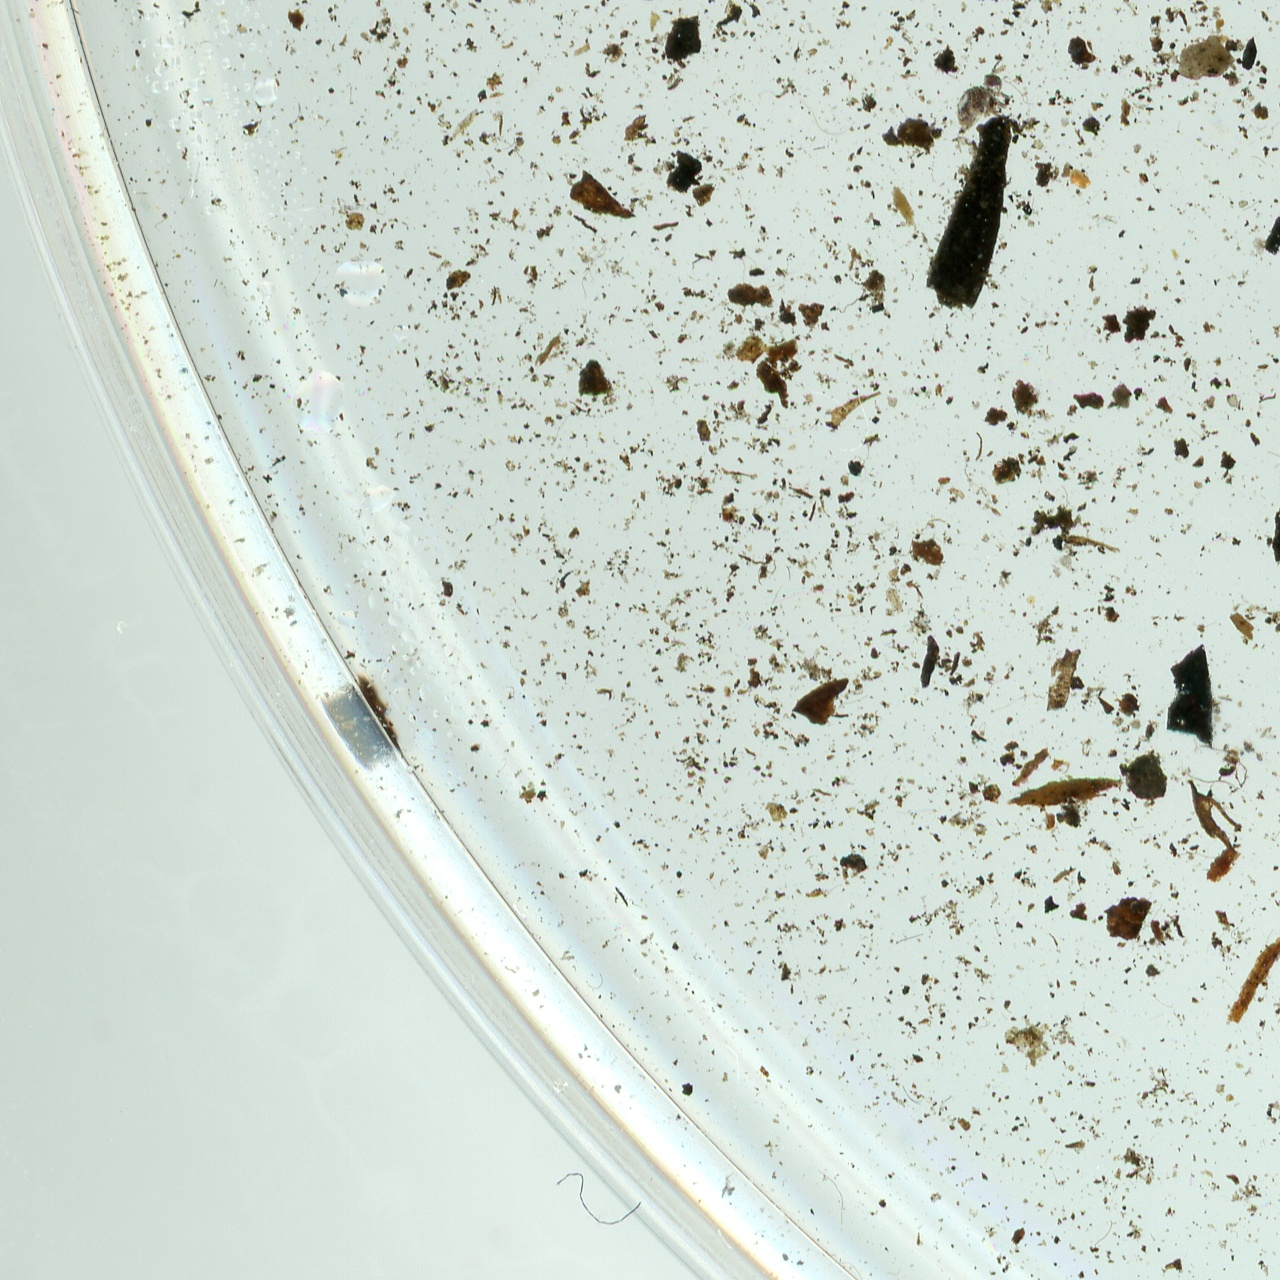arthropod: (942, 48, 1029, 147)
